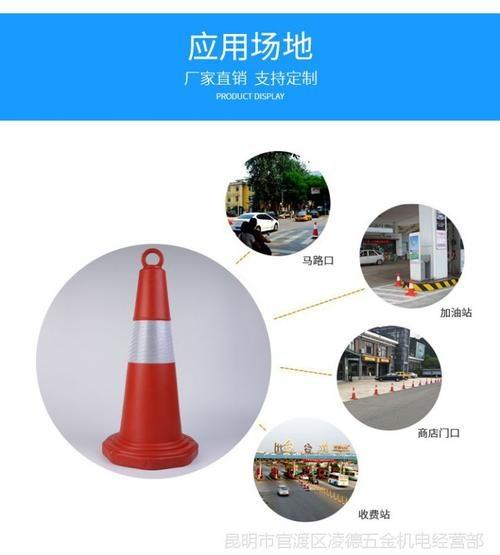cone_barrel: (98, 260, 200, 468), (406, 278, 414, 294), (310, 221, 317, 236)
